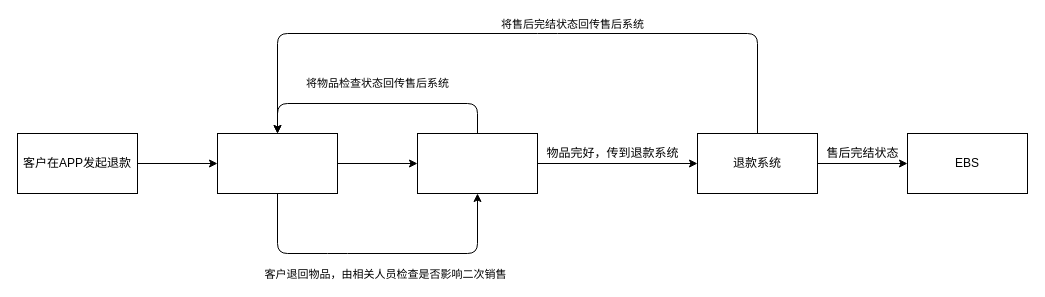
The diagram is 1045 pixels wide and 297 high, and some of its shapes have lost their labels. The shapes that lost their labels are listed below. From the top down, each one's centre as x and y in pixels, then its label:
At (x=277, y=163): "售后系统".
At (x=477, y=163): "备件库".
